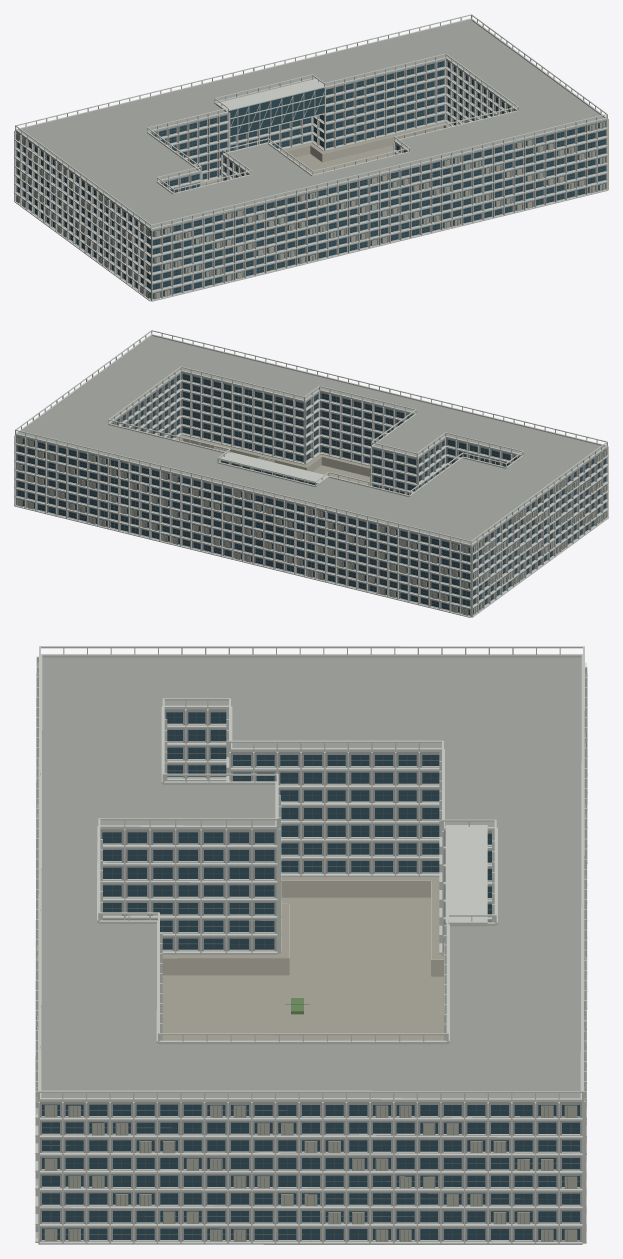
Rendered from info.glb.
3 views of the same model, one above another, from view 1: azimuth 30°, elevation 25°; view 2: azimuth 150°, elevation 25°; view 3: azimuth 270°, elevation 25° (orthographic). The views are drawn at different scales.
Parts seen in each view (by area): view 1: trim, roof, glass, wall, metal, screen, paving, stone; view 2: trim, roof, glass, wall, metal, screen, stone, paving; view 3: roof, trim, glass, wall, paving, screen, metal, stone.
Part boxes in pixels (x1=…): trim: x1=14, y1=14, x2=608, y2=301; roof: x1=19, y1=20, x2=603, y2=227; glass: x1=17, y1=61, x2=605, y2=298; wall: x1=16, y1=59, x2=606, y2=299; metal: x1=16, y1=62, x2=605, y2=298; screen: x1=16, y1=122, x2=605, y2=299; paving: x1=202, y1=122, x2=450, y2=184; stone: x1=202, y1=125, x2=447, y2=185; trim: x1=14, y1=330, x2=608, y2=617; roof: x1=18, y1=336, x2=603, y2=544; glass: x1=17, y1=374, x2=605, y2=615; wall: x1=16, y1=372, x2=606, y2=615; metal: x1=17, y1=376, x2=606, y2=614; screen: x1=17, y1=437, x2=606, y2=615; stone: x1=180, y1=438, x2=370, y2=476; paving: x1=176, y1=435, x2=370, y2=485; roof: x1=41, y1=657, x2=581, y2=1098; trim: x1=35, y1=646, x2=587, y2=1244; glass: x1=42, y1=712, x2=579, y2=1240; wall: x1=40, y1=709, x2=581, y2=1241; paving: x1=162, y1=877, x2=443, y2=1040; screen: x1=36, y1=662, x2=586, y2=1241; metal: x1=36, y1=712, x2=586, y2=1240; stone: x1=162, y1=880, x2=443, y2=976.
Size of the model in its own units: 167 by 26.4 by 86.9.
9 materials, 1 textured.
